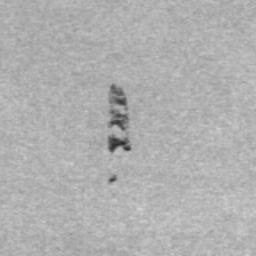Secondary rust skin: (109, 84, 129, 130), (108, 135, 132, 152), (108, 175, 115, 183)
